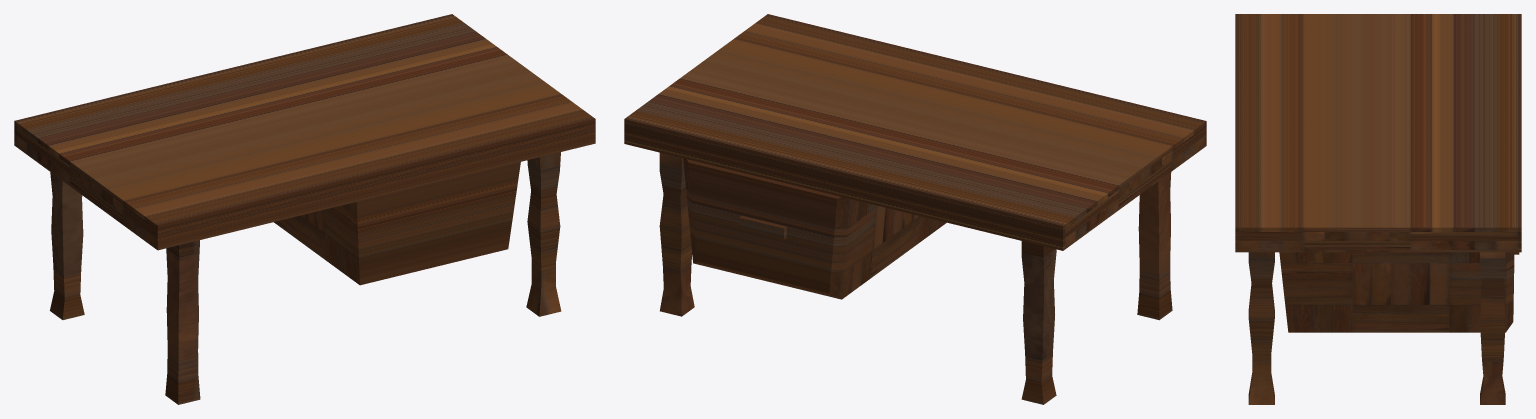
File: rossK_P04_5_desk.fbx
3 renders of one model, left to right at view 1: azimuth 30°, elevation 25°; view 2: azimuth 150°, elevation 25°; view 3: azimuth 270°, elevation 25°, orthographic.
Parts seen in each view (by area): view 1: desk; view 2: desk; view 3: desk.
Boxes of the visible parts, box(x1,y1,x2,y2) form: desk: box(14, 14, 595, 404); desk: box(624, 14, 1206, 404); desk: box(1235, 14, 1521, 404).
Size of the model in its own units: 8.33 by 3.47 by 4.72.
